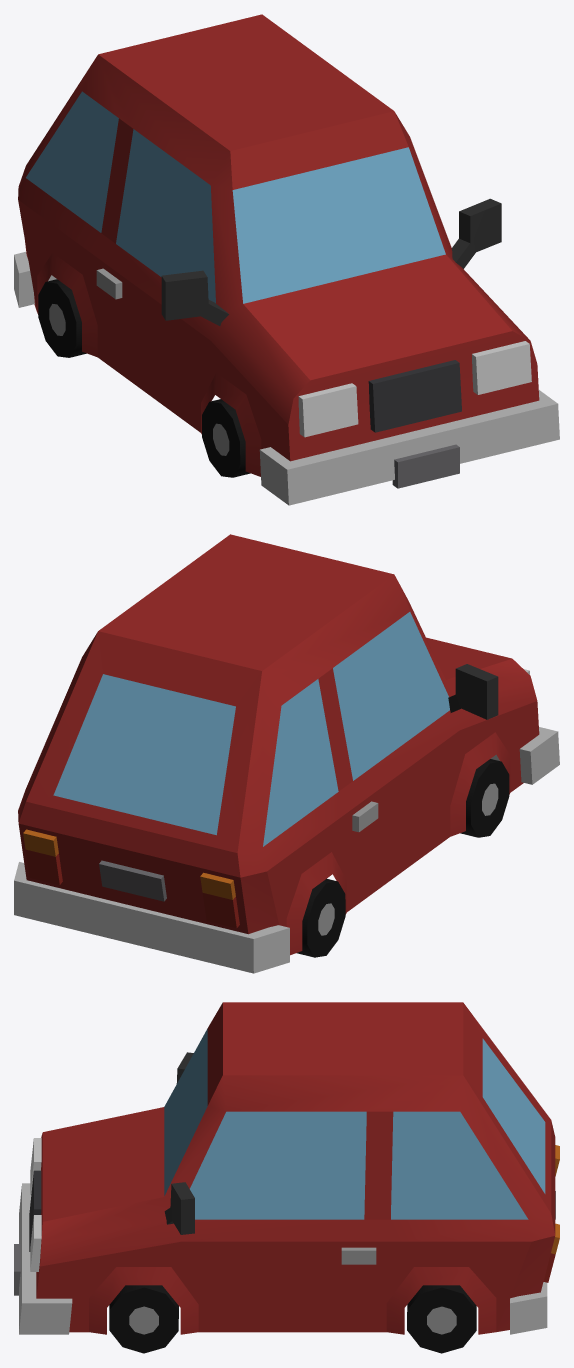
The model's file is Car_04_red.fbx.
3 renders of one model, top to bottom at view 1: azimuth 30°, elevation 25°; view 2: azimuth 150°, elevation 25°; view 3: azimuth 270°, elevation 25°, orthographic. The views are drawn at different scales.
Parts seen in each view (by area): view 1: Car_04_red; view 2: Car_04_red; view 3: Car_04_red.
Boxes of the visible parts, x1,y1,x2,y2 form: Car_04_red: [14, 14, 559, 505]; Car_04_red: [14, 534, 559, 973]; Car_04_red: [14, 1002, 559, 1353].
Bounding box in the file's own units: 60.07 × 48.41 × 93.91.
